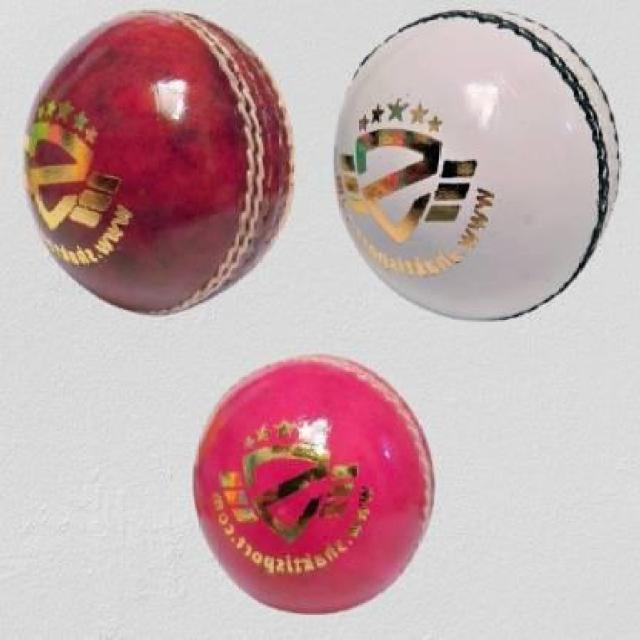ball: (332, 11, 620, 322), (23, 10, 292, 318), (191, 355, 429, 615)
